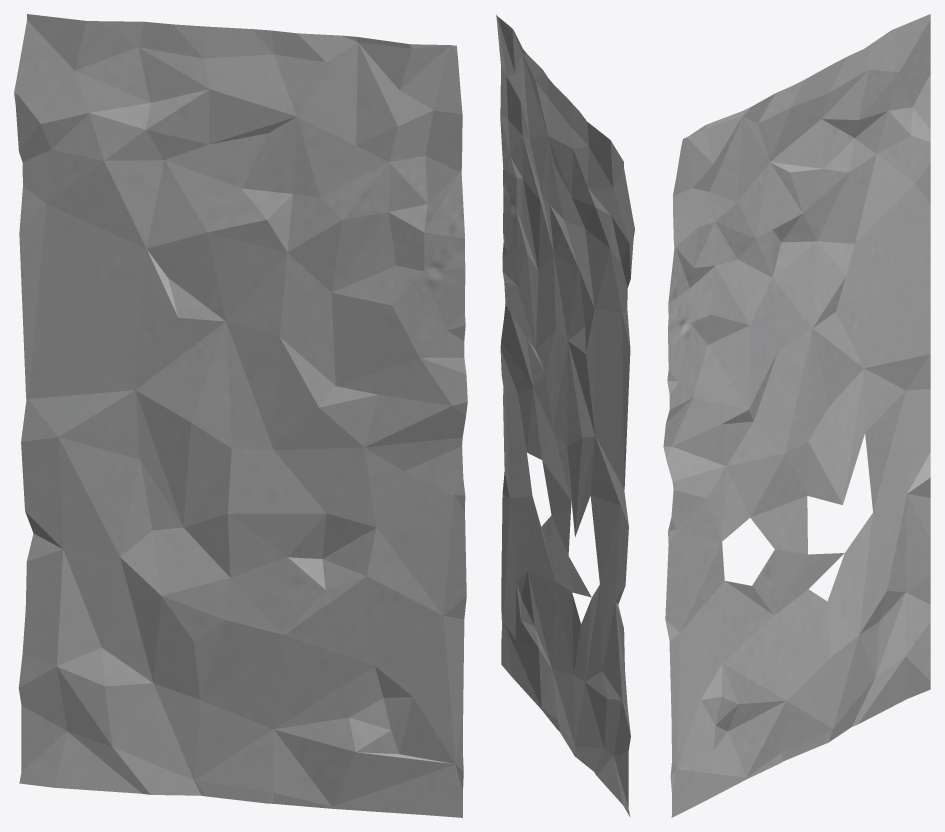
The picture shows the model from 3 angles, left to right: view 1: azimuth 30°, elevation 25°; view 2: azimuth 150°, elevation 25°; view 3: azimuth 270°, elevation 25°; orthographic projection. The views are drawn at different scales.
Size of the model in its own units: 0.3456 by 0.8374 by 0.2986.
Materials: 2 (2 with a texture image).
